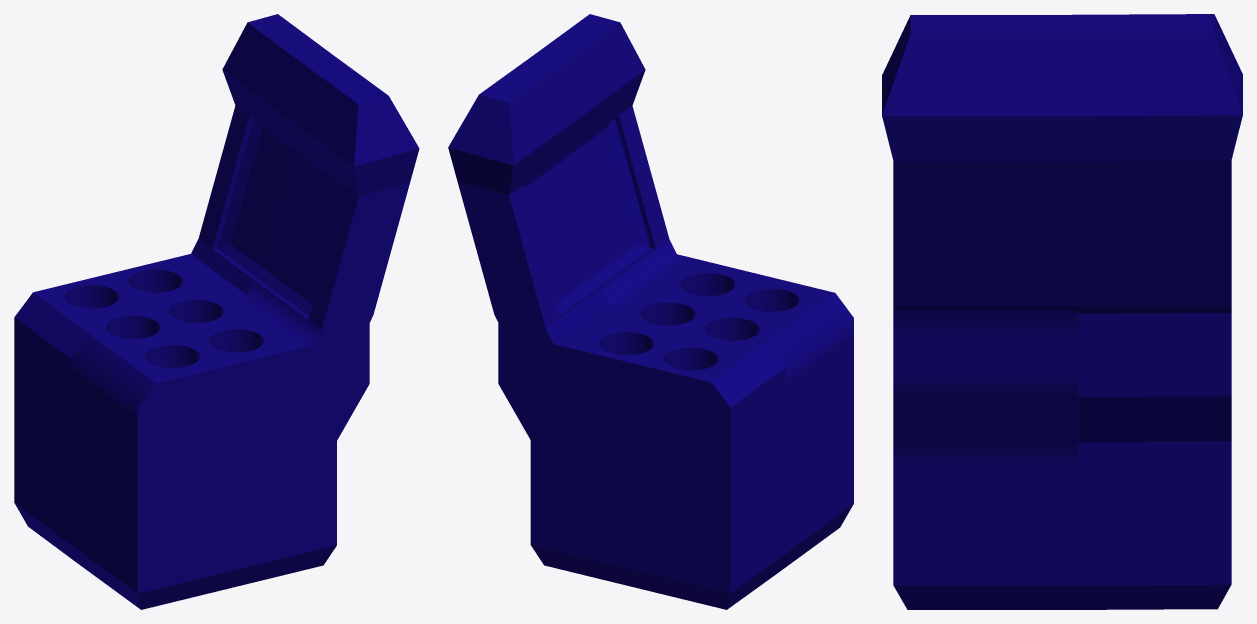
Rendered from maquina.FBX.
3 renders of one model, left to right at view 1: azimuth 30°, elevation 25°; view 2: azimuth 150°, elevation 25°; view 3: azimuth 270°, elevation 25°, orthographic. The views are drawn at different scales.
Parts seen in each view (by area): view 1: Box001; view 2: Box001; view 3: Box001.
Boxes of the visible parts, x1,y1,x2,y2 form: Box001: (14,14,419,609); Box001: (448,14,853,609); Box001: (882,14,1242,609).
Size of the model in its own units: 109 by 170 by 89.72.
